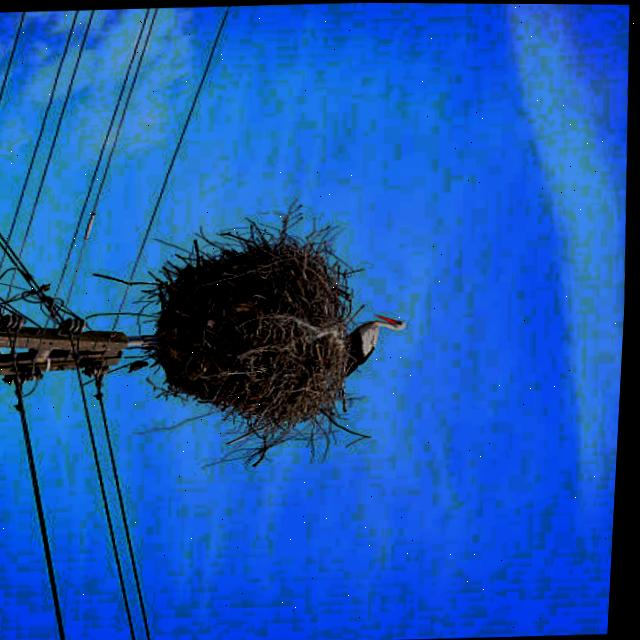obstruction: (158, 223, 374, 461)
poles: (0, 324, 161, 379)
wires: (76, 6, 224, 311), (32, 371, 137, 640)
